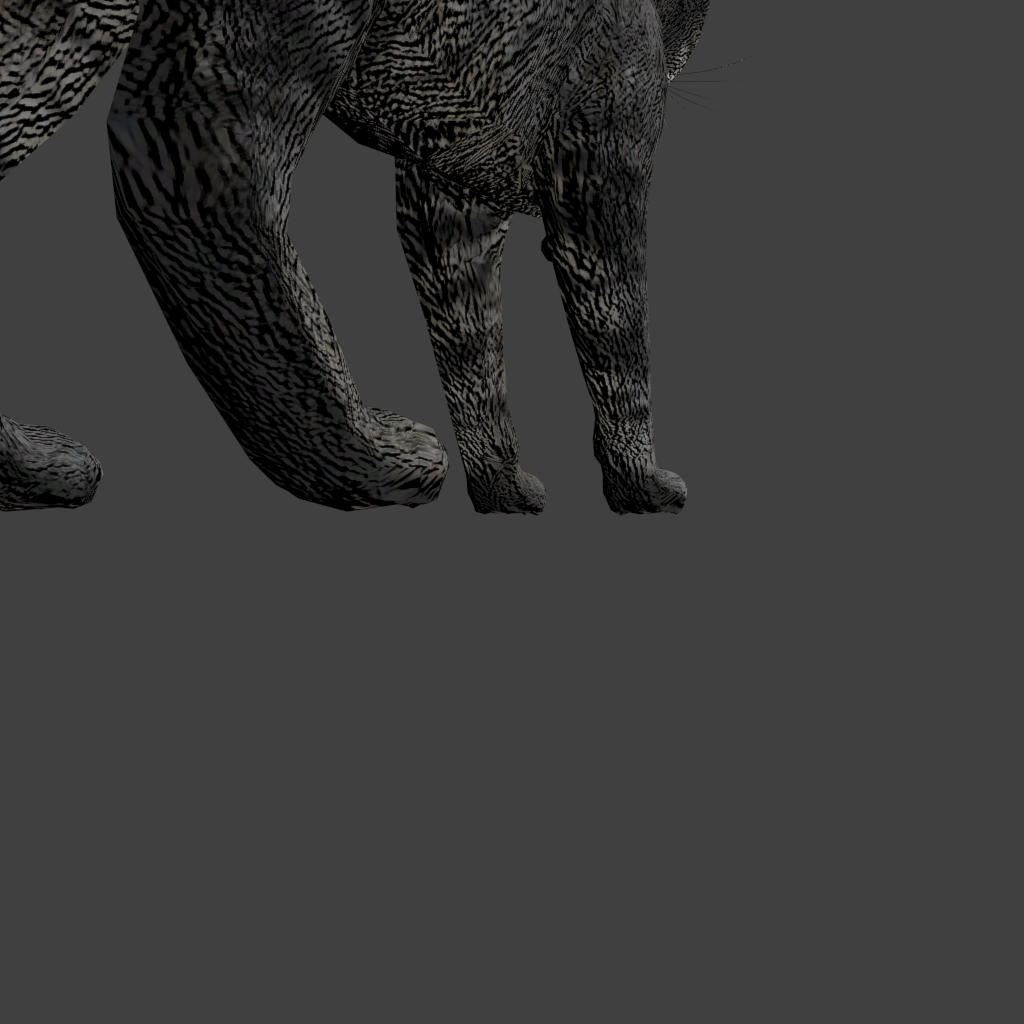Cat: (0, 0, 778, 516)
